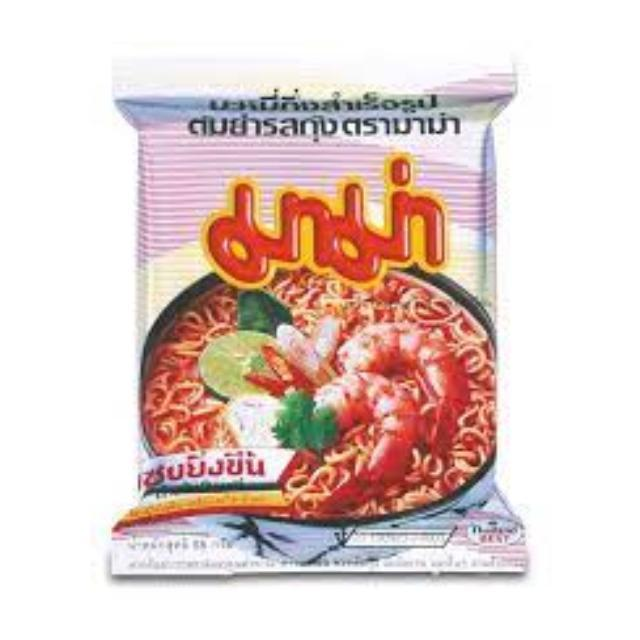Bolsa-de-plastico: (102, 62, 533, 573)
